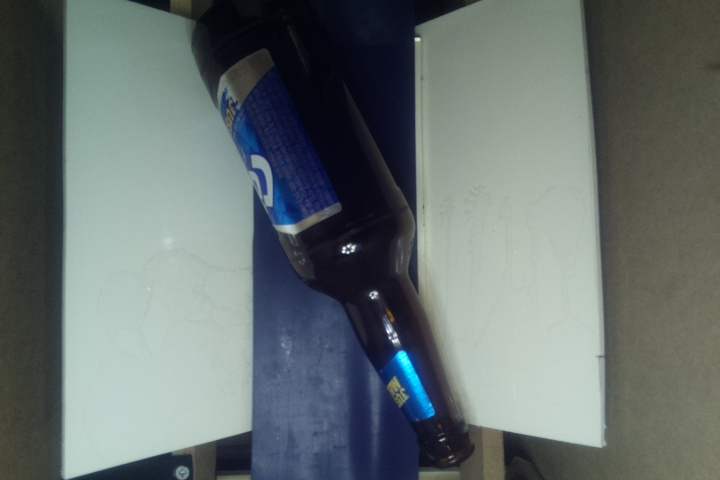makju: (190, 1, 475, 469)
